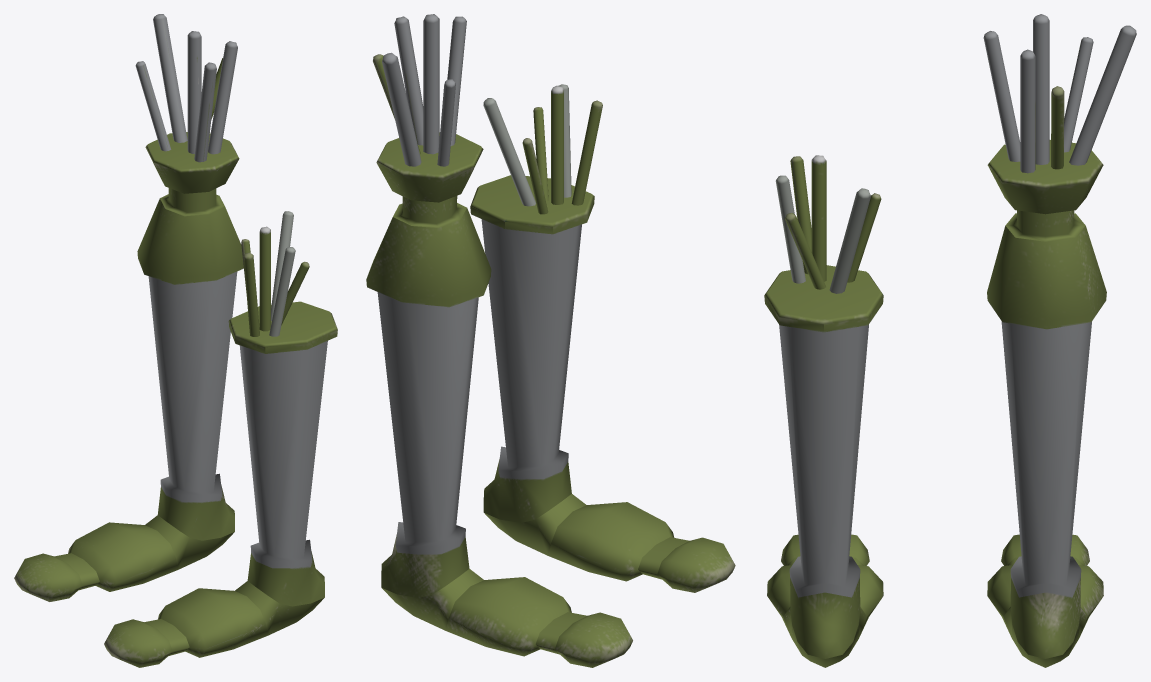
Rendered from SM_Robot_P2.fbx.
3 views of the same model, side by side, from view 1: azimuth 30°, elevation 25°; view 2: azimuth 150°, elevation 25°; view 3: azimuth 270°, elevation 25° (orthographic). The views are drawn at different scales.
Parts seen in each view (by area): view 1: SM_Robot_P2; view 2: SM_Robot_P2; view 3: SM_Robot_P2.
Boxes of the visible parts, box(x1,y1,x2,y2) form: SM_Robot_P2: box(14, 14, 337, 667); SM_Robot_P2: box(366, 14, 735, 667); SM_Robot_P2: box(764, 14, 1136, 667).
Bounding box in the file's own units: 24.83 × 29.53 × 56.78.
1 material, 1 textured.
